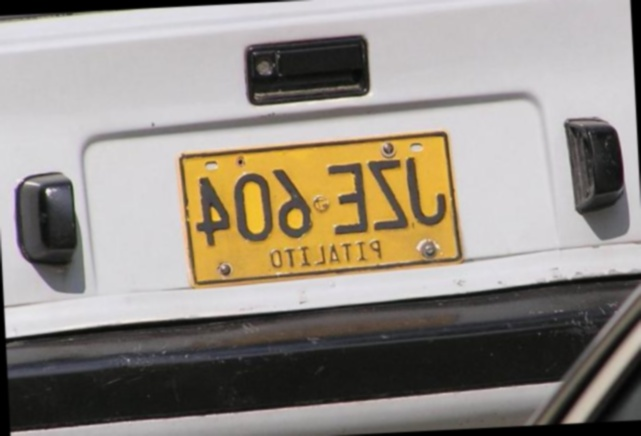placas: (176, 125, 469, 292)
